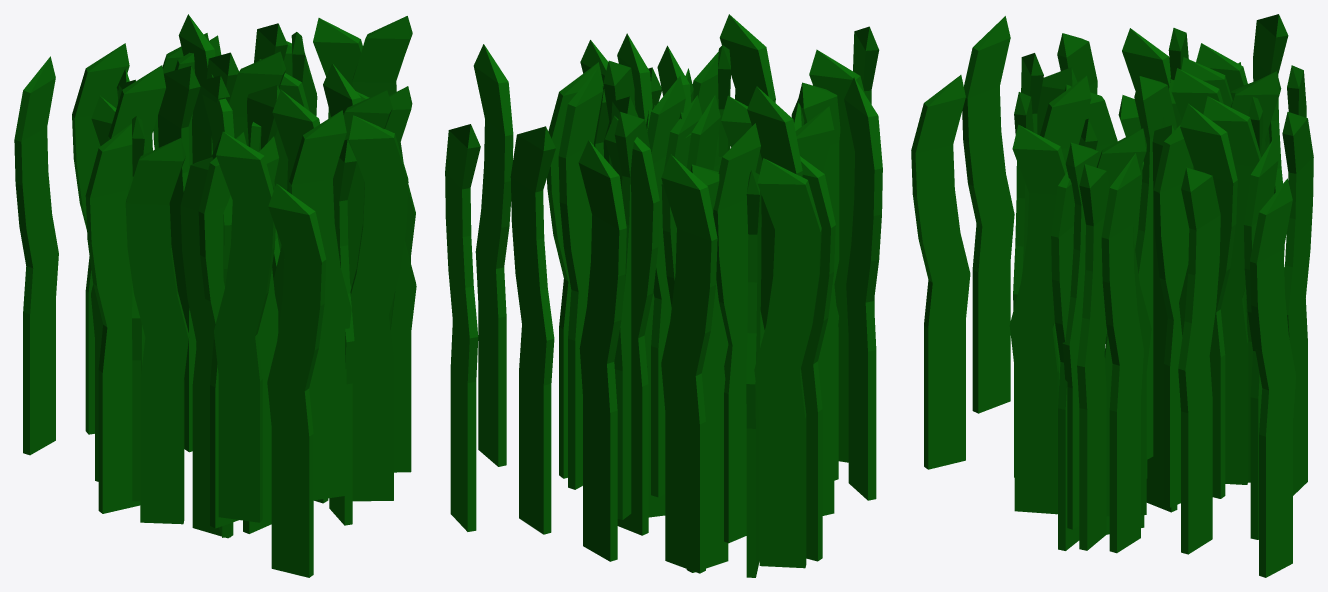
The model's file is grassDarkGreen.fbx.
3 renders of one model, left to right at view 1: azimuth 30°, elevation 25°; view 2: azimuth 150°, elevation 25°; view 3: azimuth 270°, elevation 25°, orthographic. The views are drawn at different scales.
Parts seen in each view (by area): view 1: grassDarkGreen.101; view 2: grassDarkGreen.101; view 3: grassDarkGreen.101.
Part boxes in pixels (bbox=[...]): grassDarkGreen.101: bbox=[14, 14, 416, 577]; grassDarkGreen.101: bbox=[445, 14, 882, 577]; grassDarkGreen.101: bbox=[911, 14, 1313, 577].
Size of the model in its own units: 53.05 by 61.79 by 50.73.
